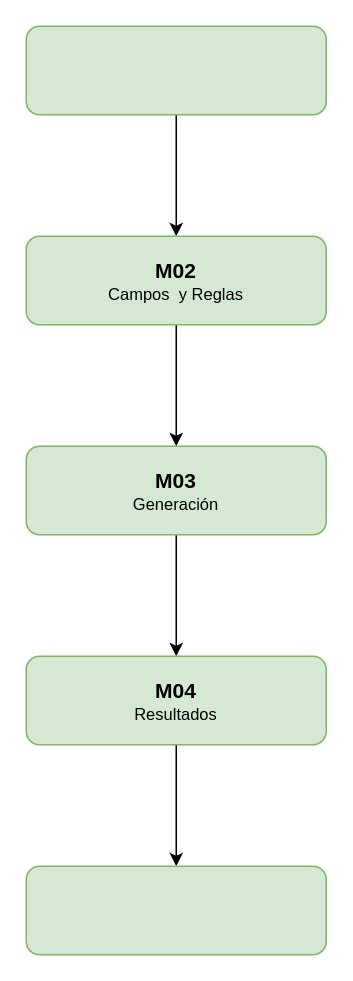
The diagram is 353 pixels wide and 981 high, and some of its shapes have lost their labels. Here are the shapes that lost their labels. From the top down, the box of each, then its label:
(25, 25, 326, 115): M01 Proyectos y Modelos
(25, 865, 326, 955): MVP INTEGRADO
